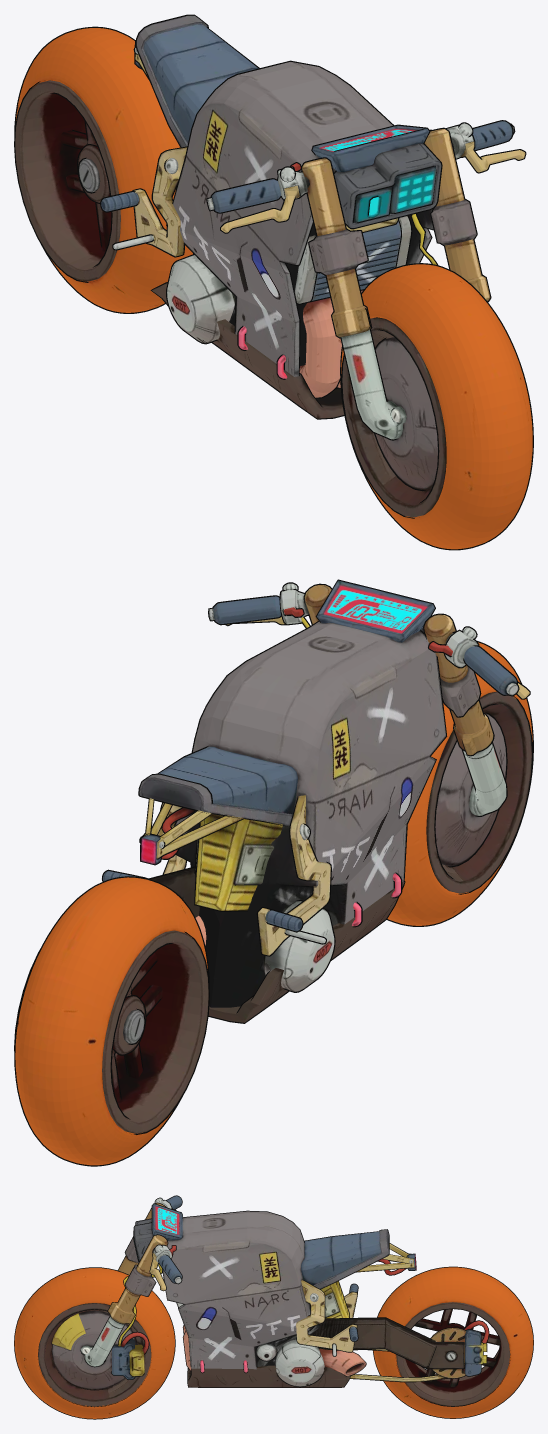
File: bike_cyberpunk.glb
3 views of the same model, one above another, from view 1: azimuth 30°, elevation 25°; view 2: azimuth 150°, elevation 25°; view 3: azimuth 270°, elevation 25° (orthographic). The views are drawn at different scales.
Visible parts, largest first — view 1: Object_2, Object_3; view 2: Object_2, Object_3; view 3: Object_2, Object_3.
Boxes of the visible parts, x1,y1,x2,y2 form: Object_2: [15, 15, 532, 549]; Object_3: [14, 14, 533, 550]; Object_2: [15, 580, 532, 1165]; Object_3: [14, 579, 533, 1166]; Object_2: [14, 1196, 533, 1418]; Object_3: [14, 1195, 533, 1419].
Size of the model in its own units: 1.1 by 1.24 by 2.92.
Materials: 2 (2 with a texture image).
